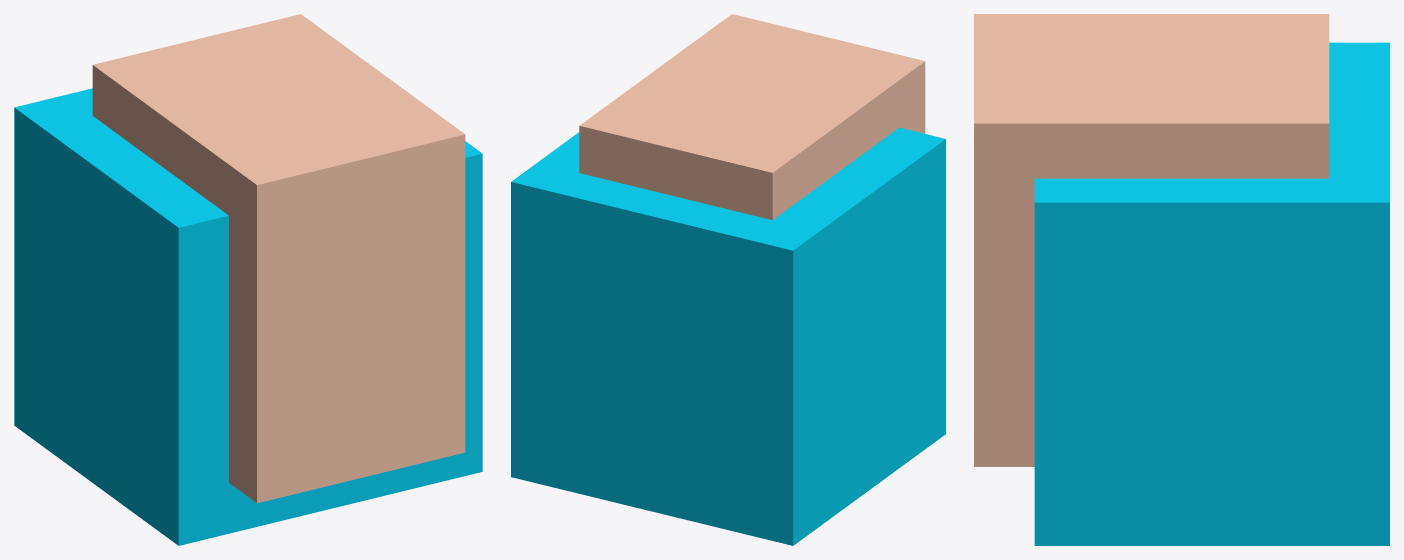
File: blue_body.obj
3 renders of one model, left to right at view 1: azimuth 30°, elevation 25°; view 2: azimuth 150°, elevation 25°; view 3: azimuth 270°, elevation 25°, orthographic. The views are drawn at different scales.
Parts seen in each view (by area): view 1: blue_body:Mesh; view 2: blue_body:Mesh; view 3: blue_body:Mesh.
Boxes of the visible parts, bbox=[...] form: blue_body:Mesh: bbox=[14, 14, 482, 545]; blue_body:Mesh: bbox=[511, 14, 945, 545]; blue_body:Mesh: bbox=[974, 14, 1389, 545].
Size of the model in its own units: 1.6 by 1.86 by 1.76.
1 material, 1 textured.
